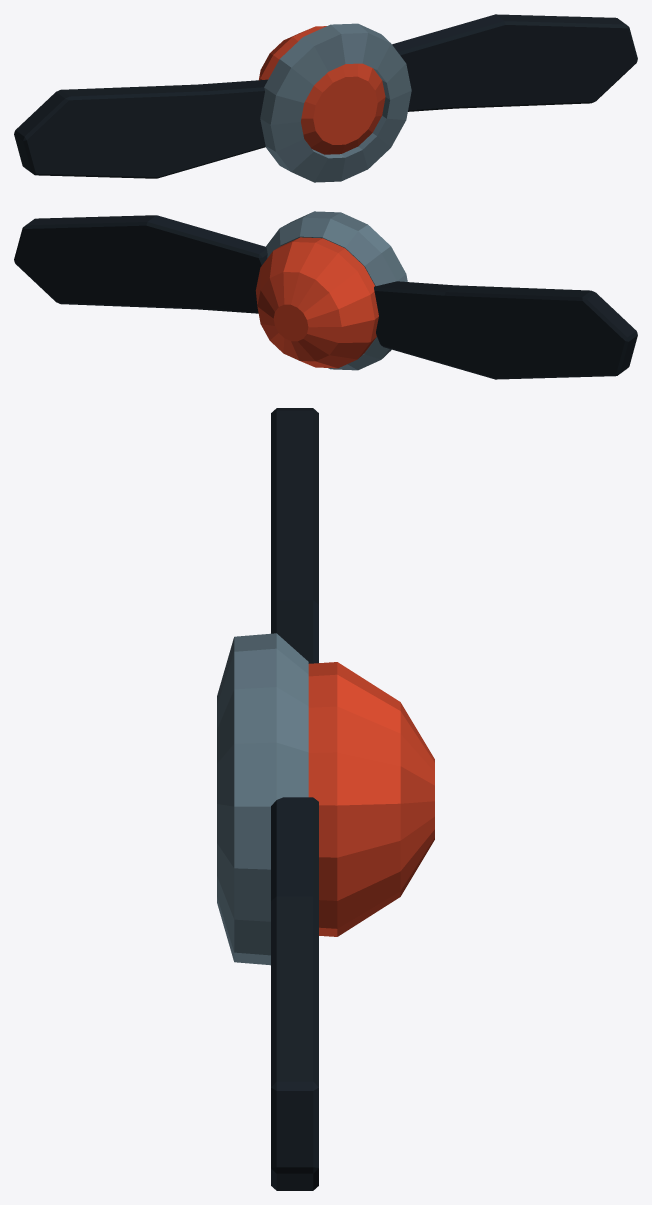
Rendered from EA_PusherPropeller.fbx.
3 views of the same model, one above another, from view 1: azimuth 30°, elevation 25°; view 2: azimuth 150°, elevation 25°; view 3: azimuth 270°, elevation 25° (orthographic). The views are drawn at different scales.
Visible parts, largest first — view 1: EA_PusherPropeller; view 2: EA_PusherPropeller; view 3: EA_PusherPropeller.
Part boxes in pixels (box(x1,y1,x2,y2)): EA_PusherPropeller: box(14, 14, 637, 182); EA_PusherPropeller: box(14, 211, 637, 379); EA_PusherPropeller: box(217, 408, 434, 1190).
Bounding box in the file's own units: 1.24 × 0.29 × 0.19.
